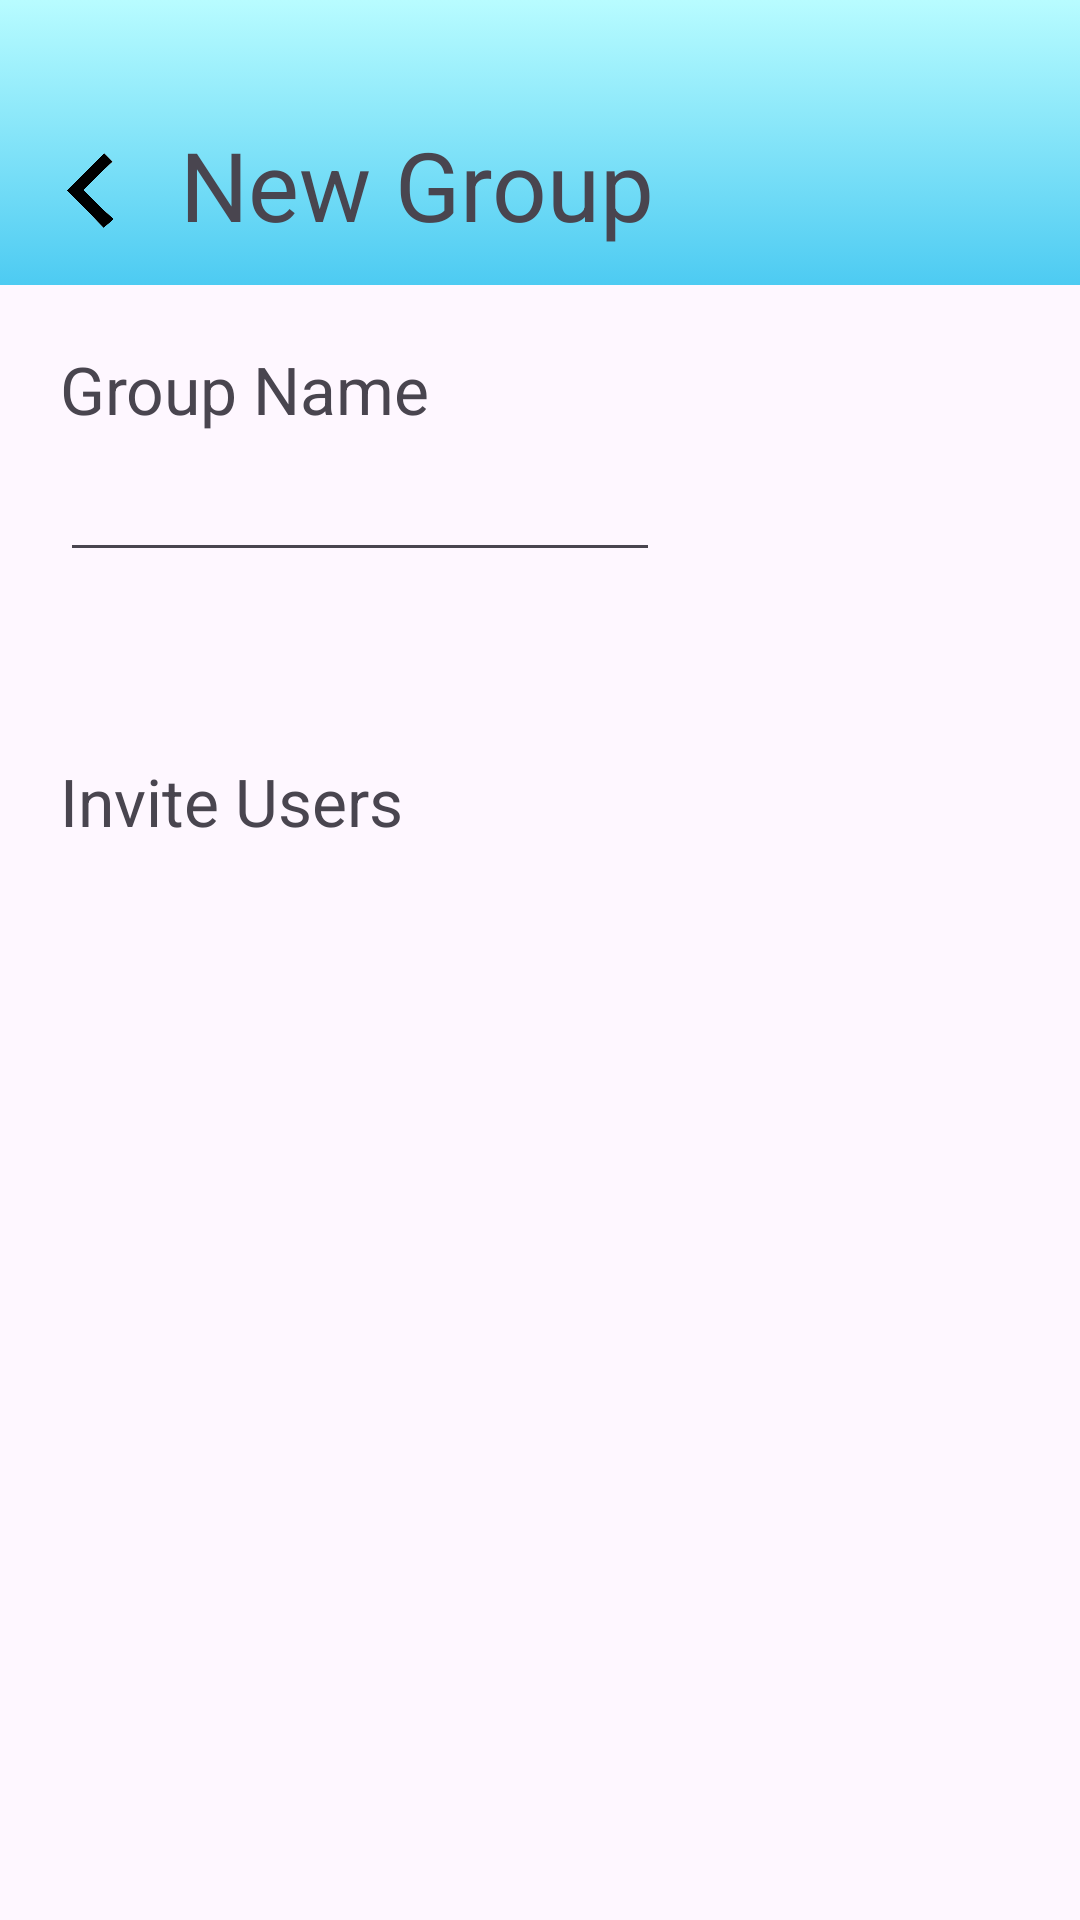

Named icons in this screenshot (1080px x 1920px) and their centers, (x=x, y=y):
back arrow: (x=90, y=202)
